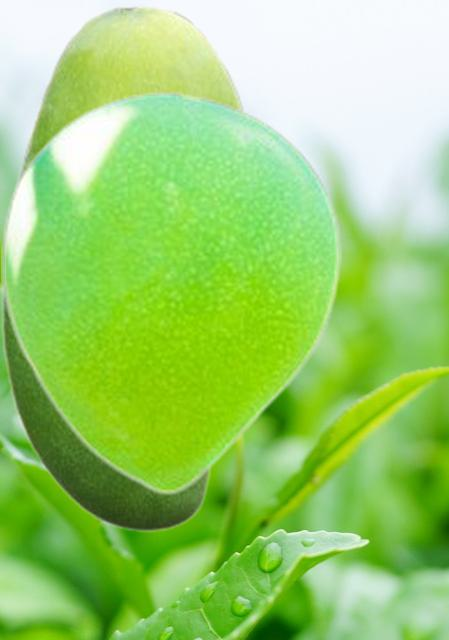green_mango: (1, 90, 340, 495), (0, 3, 249, 532)
